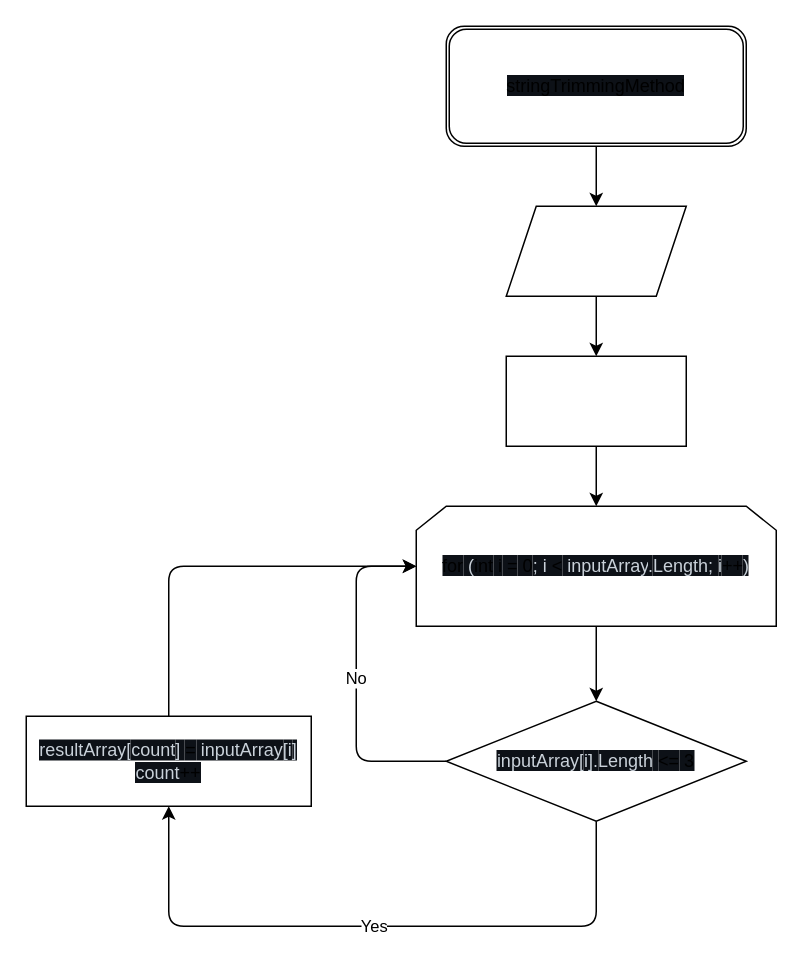
This 803x965 diagram has some shape labels left out. Here are the shapes that lost their labels. From the top down, the centre of each, then its label:
At point 595,250: "inputArray resultArray".
At point 595,400: "count = 0".
